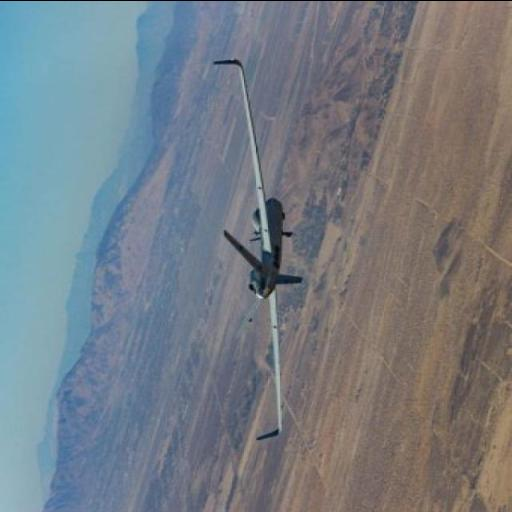uav: (206, 52, 310, 444)
